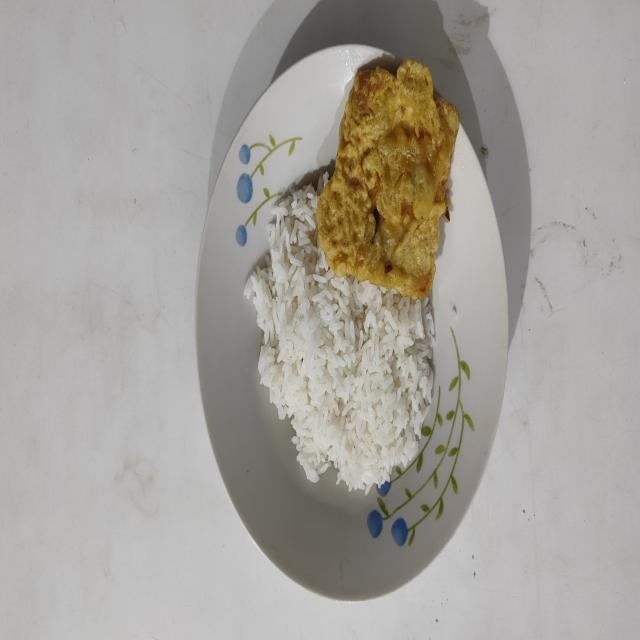nasi_putih: (245, 172, 434, 494)
